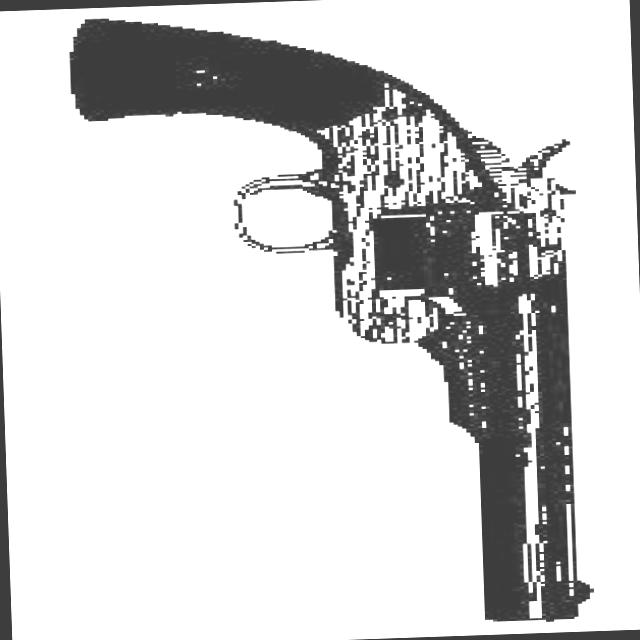handgun: (66, 0, 603, 639)
